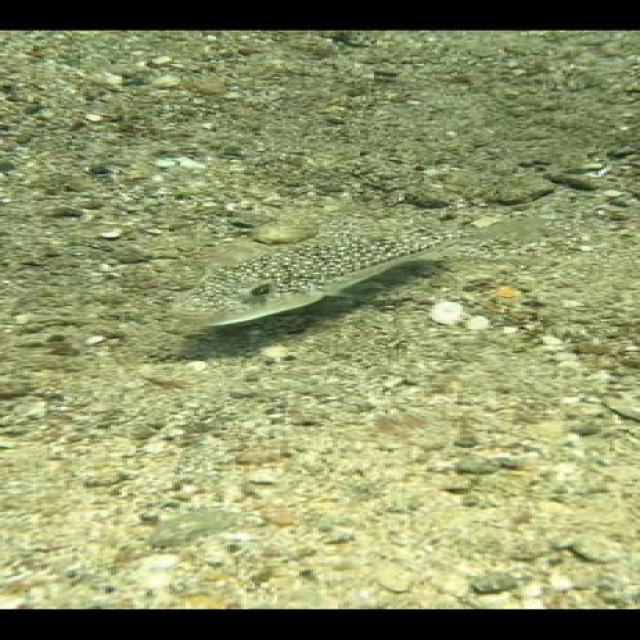Balik: (172, 232, 459, 326)
